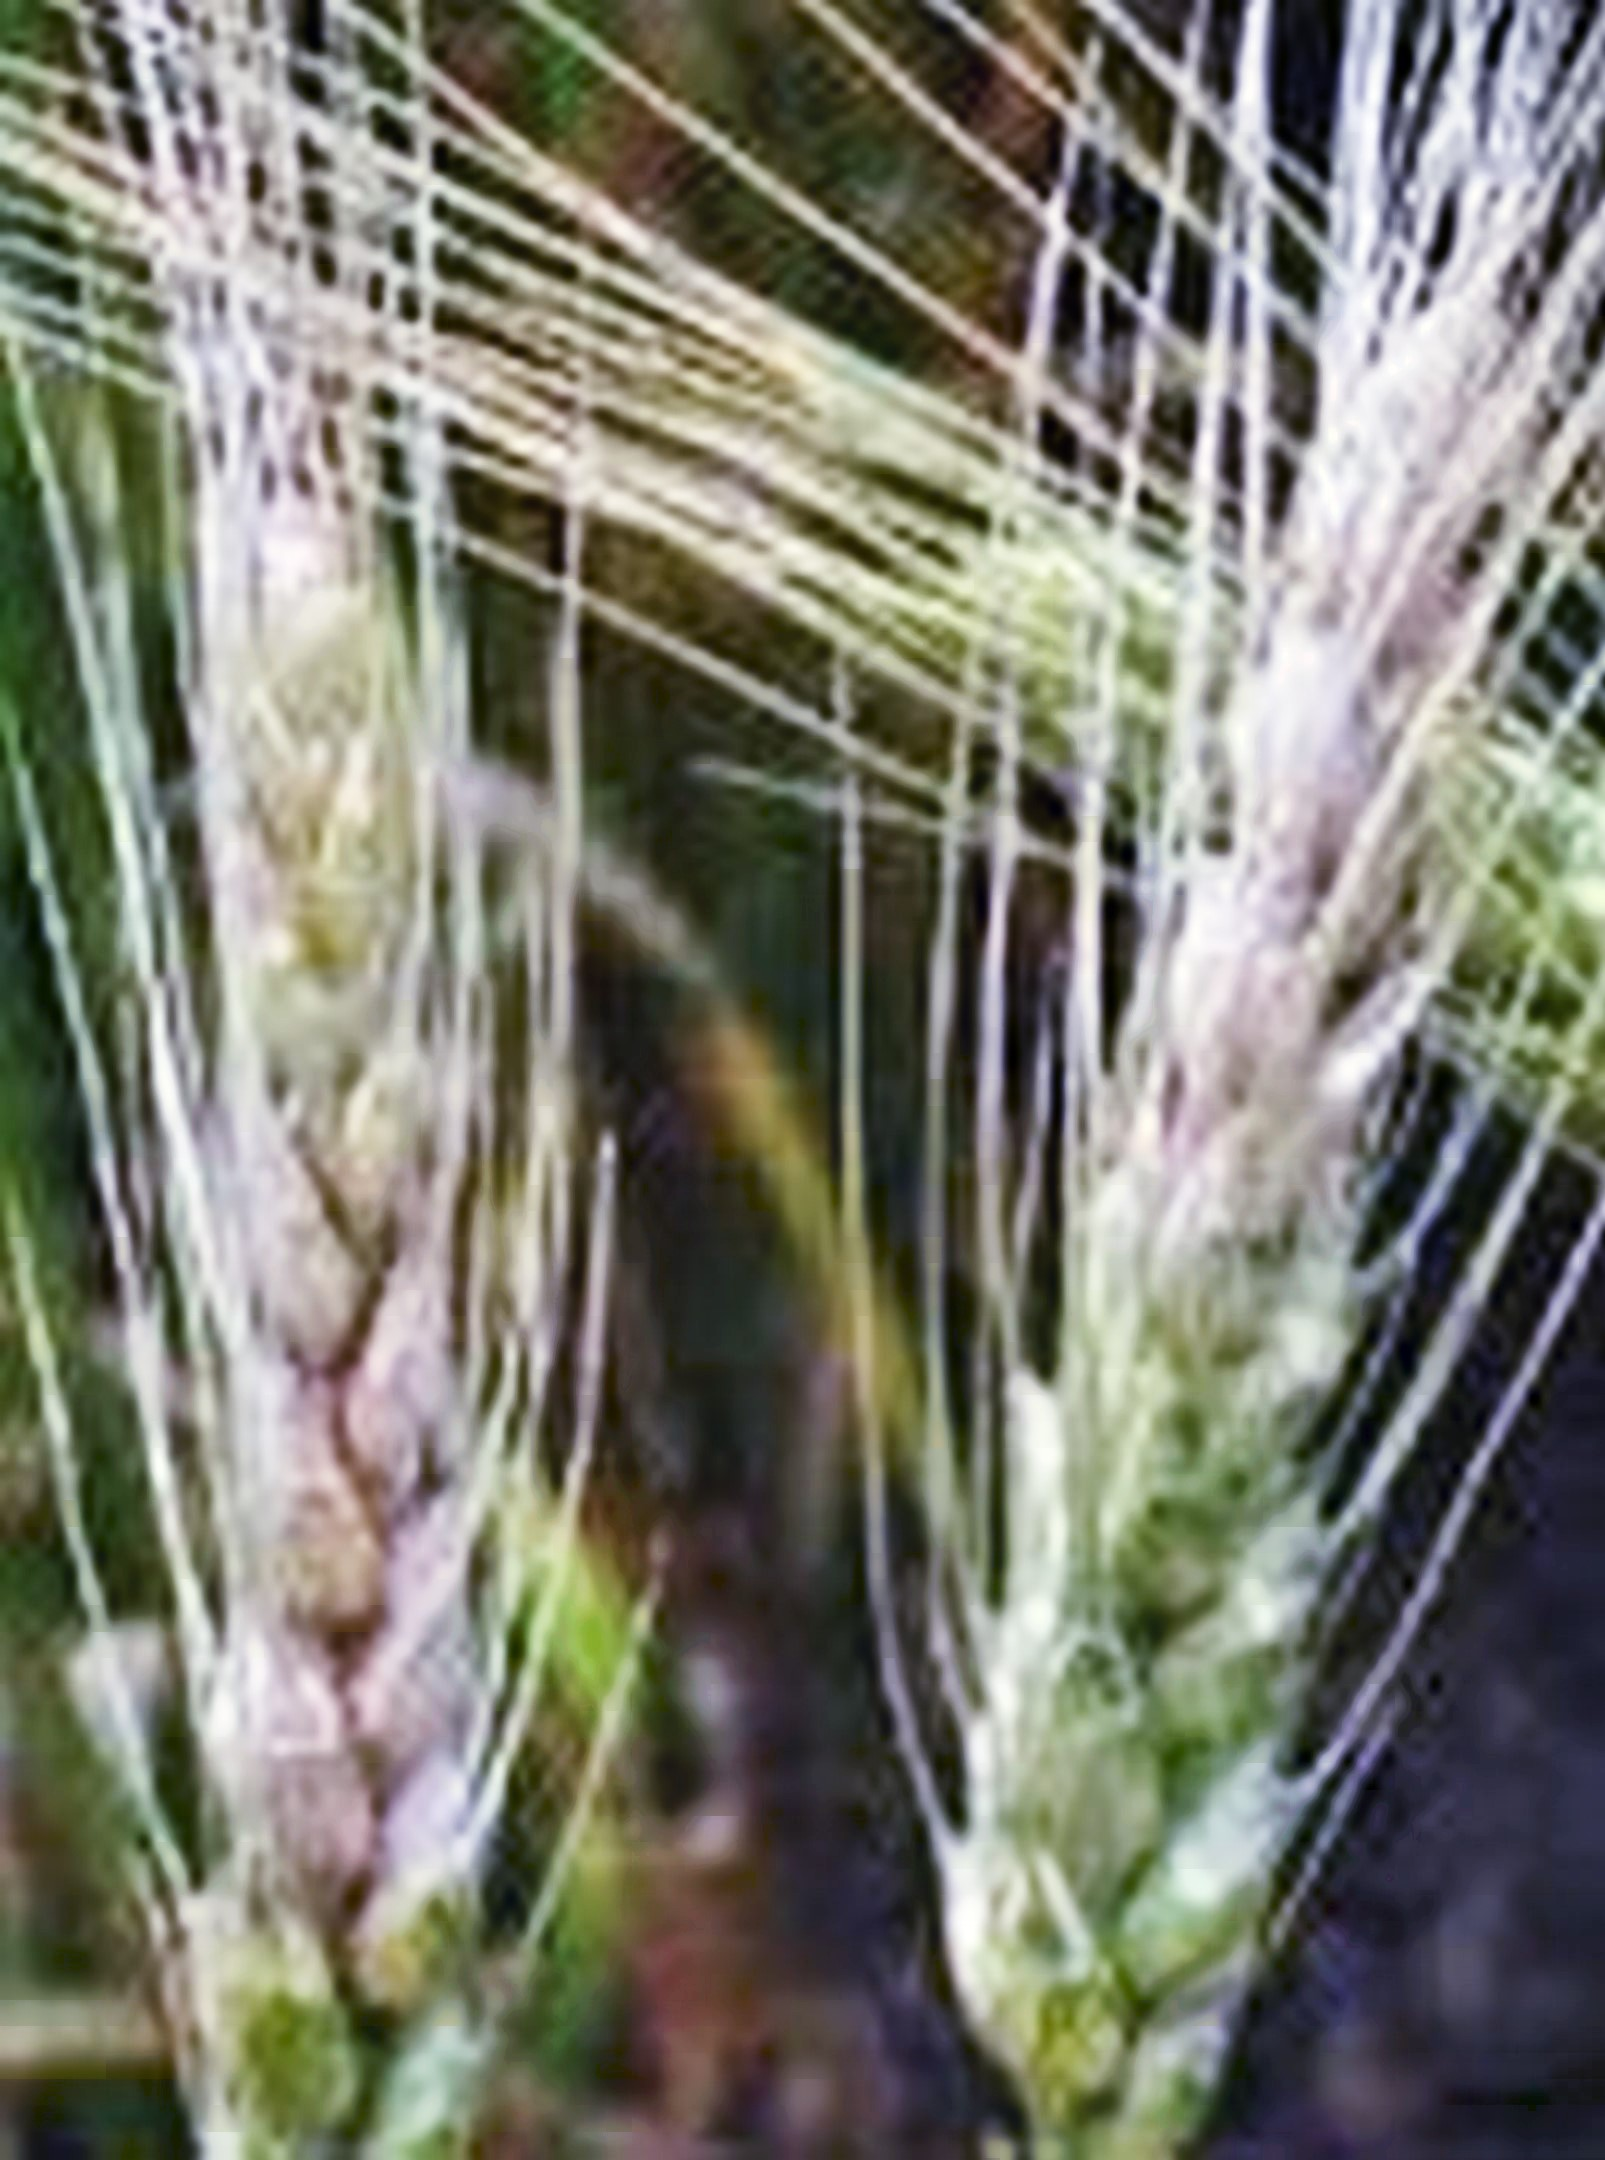Wheat scab: (878, 273, 1538, 2116)
